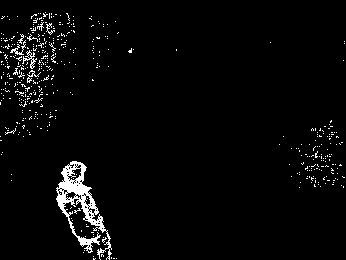person: (56, 154, 116, 259)
